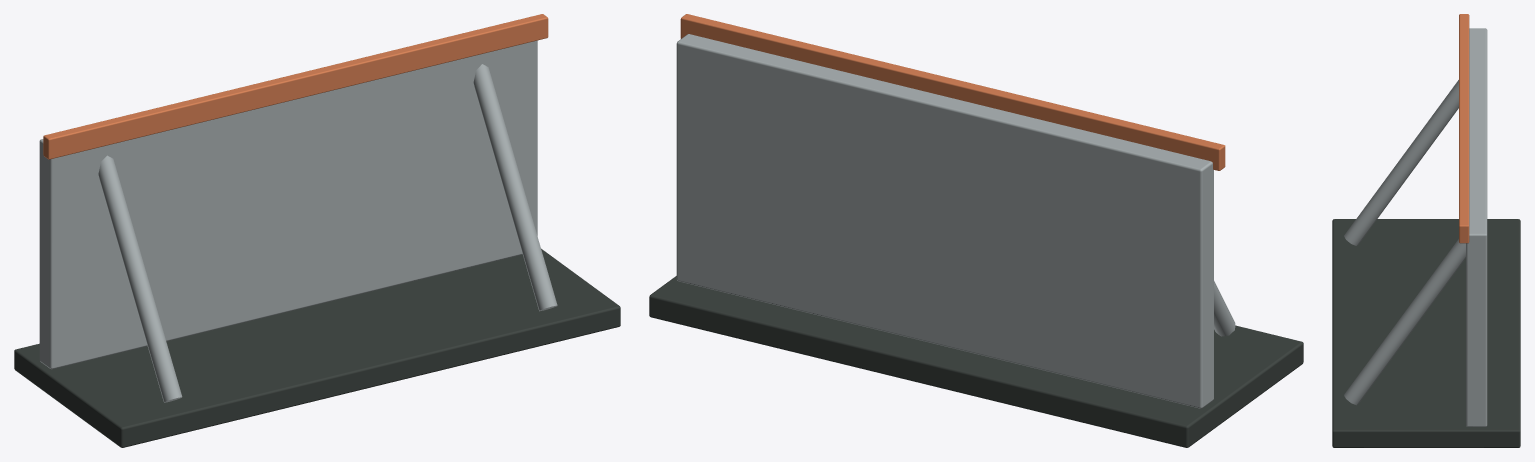
File: flooded-and-coastal-survival-portable-flood-barrier-ee5b17df__20061.glb
The picture shows the model from 3 angles, left to right: view 1: azimuth 30°, elevation 25°; view 2: azimuth 150°, elevation 25°; view 3: azimuth 270°, elevation 25°; orthographic projection. The views are drawn at different scales.
Parts seen in each view (by area): view 1: portable-flood-barrier; view 2: portable-flood-barrier; view 3: portable-flood-barrier.
Boxes of the visible parts, box(x1,y1,x2,y2) form: portable-flood-barrier: box(14, 14, 620, 447); portable-flood-barrier: box(649, 14, 1303, 447); portable-flood-barrier: box(1332, 14, 1520, 447).
Bounding box in the file's own units: 2 × 0.9801 × 0.7501.
